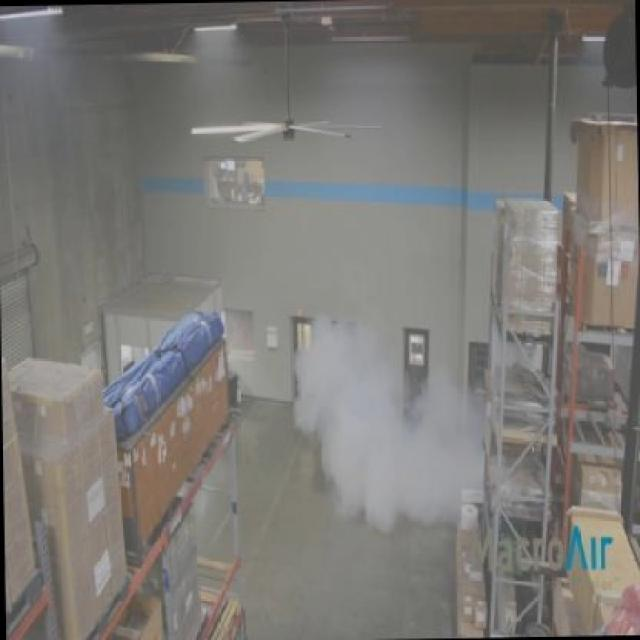smoke: (296, 320, 461, 514)
